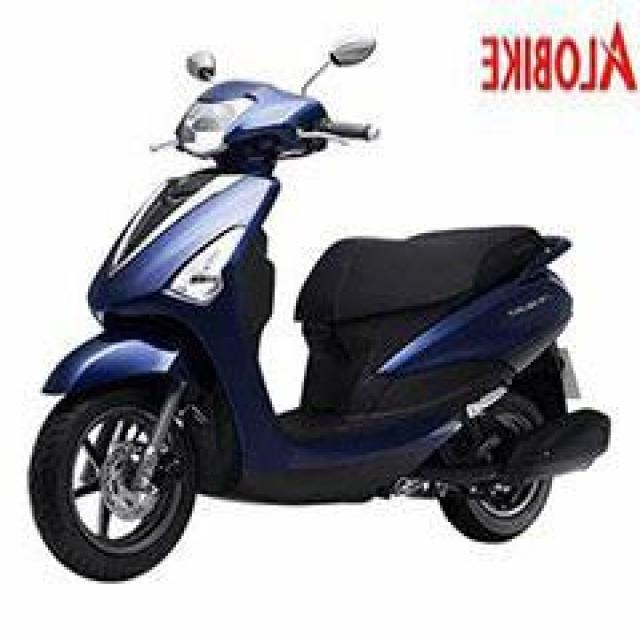motorcycle: (24, 13, 624, 605)
